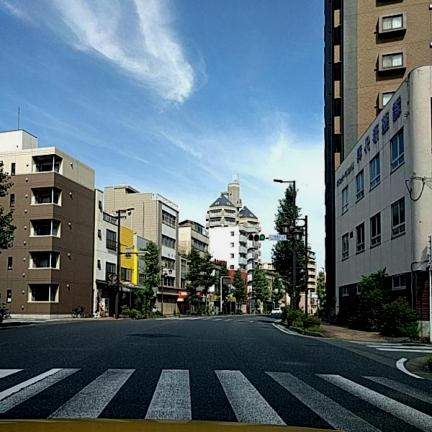Road: (0, 316, 431, 431)
